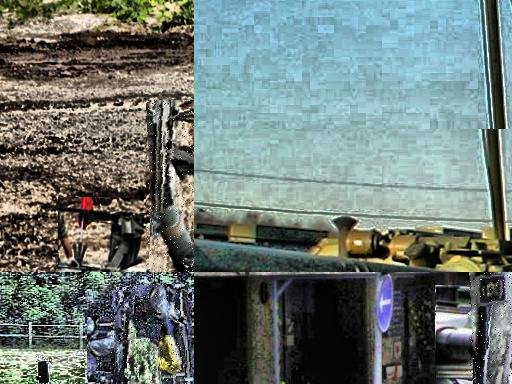tanks: (195, 243, 512, 273), (148, 102, 195, 273), (112, 286, 189, 384), (471, 273, 512, 384)
